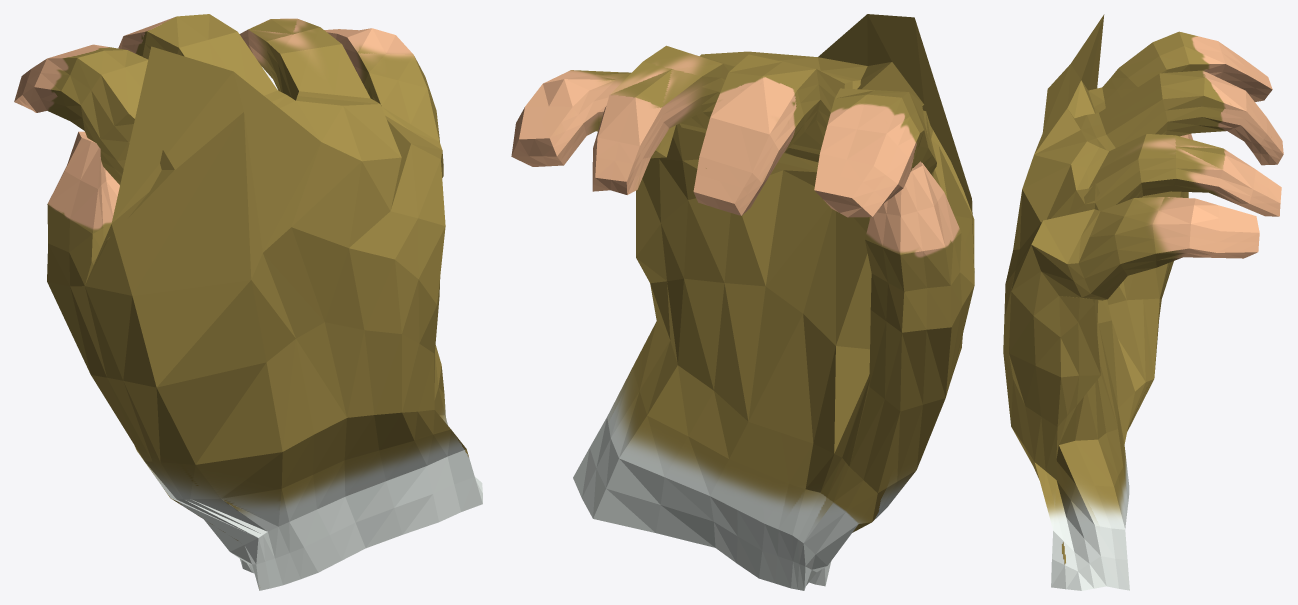
The model's file is grip0048.obj.
3 renders of one model, left to right at view 1: azimuth 30°, elevation 25°; view 2: azimuth 150°, elevation 25°; view 3: azimuth 270°, elevation 25°, orthographic. The views are drawn at different scales.
Parts seen in each view (by area): view 1: Hand; view 2: Hand; view 3: Hand.
Part boxes in pixels (x1,y1,x2,y2): Hand: [14, 14, 482, 590]; Hand: [511, 14, 974, 590]; Hand: [1003, 14, 1283, 590].
Bounding box in the file's own units: 2.79 × 3.84 × 2.
